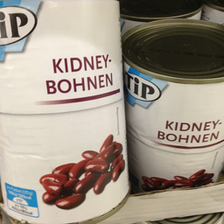beans: (1, 1, 123, 223), (124, 11, 224, 189)
